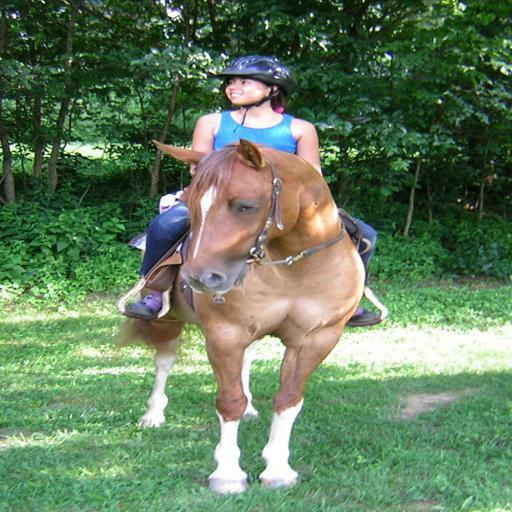horse: (110, 140, 364, 496)
